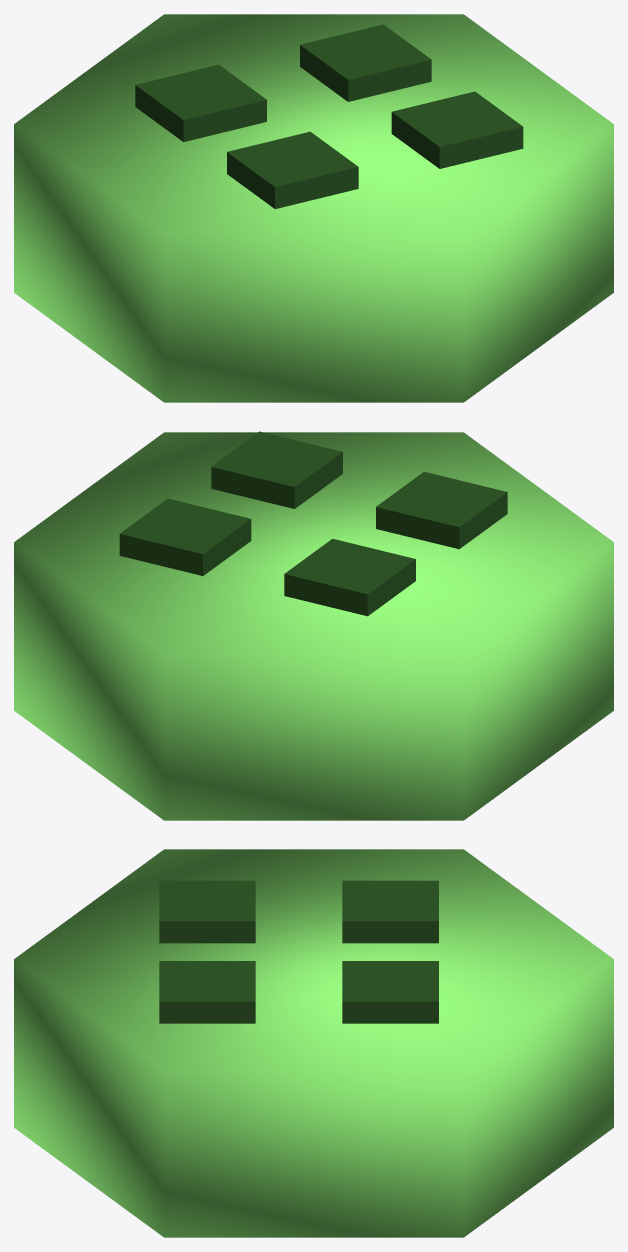
File: cucumberSeeds.obj
3 renders of one model, top to bottom at view 1: azimuth 30°, elevation 25°; view 2: azimuth 150°, elevation 25°; view 3: azimuth 270°, elevation 25°, orthographic.
Visible parts, largest first — view 1: avocado.002, Cube, Cube.001, Cube.002, Cube.003; view 2: avocado.002, Cube.001, Cube, Cube.003, Cube.002; view 3: avocado.002, Cube.002, Cube.003, Cube, Cube.001.
Part boxes in pixels (left/top/right/bottom): avocado.002: left=14, top=14, right=613, bottom=402; Cube: left=391, top=91, right=523, bottom=168; Cube.001: left=300, top=24, right=431, bottom=101; Cube.002: left=227, top=131, right=358, bottom=209; Cube.003: left=135, top=64, right=266, bottom=141; avocado.002: left=14, top=432, right=613, bottom=820; Cube.001: left=119, top=498, right=251, bottom=575; Cube: left=211, top=431, right=342, bottom=508; Cube.003: left=284, top=538, right=415, bottom=616; Cube.002: left=376, top=471, right=507, bottom=549; avocado.002: left=14, top=849, right=613, bottom=1237; Cube.002: left=159, top=880, right=255, bottom=943; Cube.003: left=342, top=880, right=438, bottom=943; Cube: left=159, top=961, right=255, bottom=1023; Cube.001: left=342, top=961, right=438, bottom=1023.
Bounding box in the file's own units: 0.0808 × 0.0364 × 0.0933.
